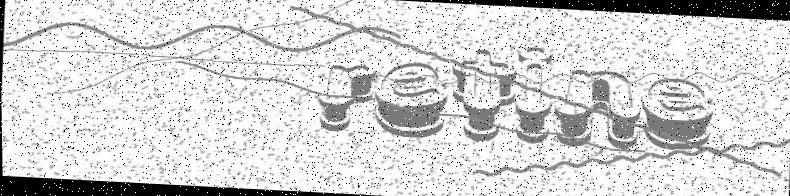e: (373, 61, 448, 138), (638, 77, 714, 150)
i: (513, 45, 555, 143)
n: (552, 69, 642, 149)
r: (316, 64, 374, 133)
t: (450, 48, 518, 143)
